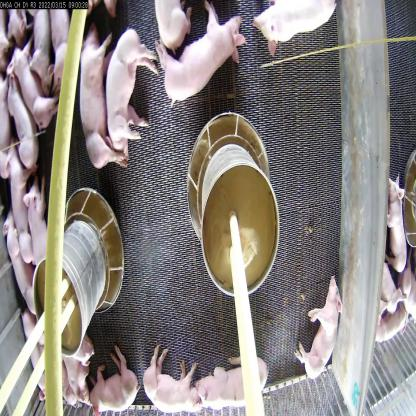Pig: (162, 7, 249, 113), (294, 270, 350, 388), (104, 36, 158, 151), (0, 64, 45, 184), (80, 34, 120, 168), (254, 0, 335, 59), (14, 181, 61, 268), (142, 342, 204, 407), (8, 40, 56, 122), (382, 174, 411, 303), (42, 10, 86, 88), (1, 232, 36, 329), (3, 145, 32, 259), (82, 356, 134, 416), (194, 365, 262, 408), (58, 348, 94, 404)
